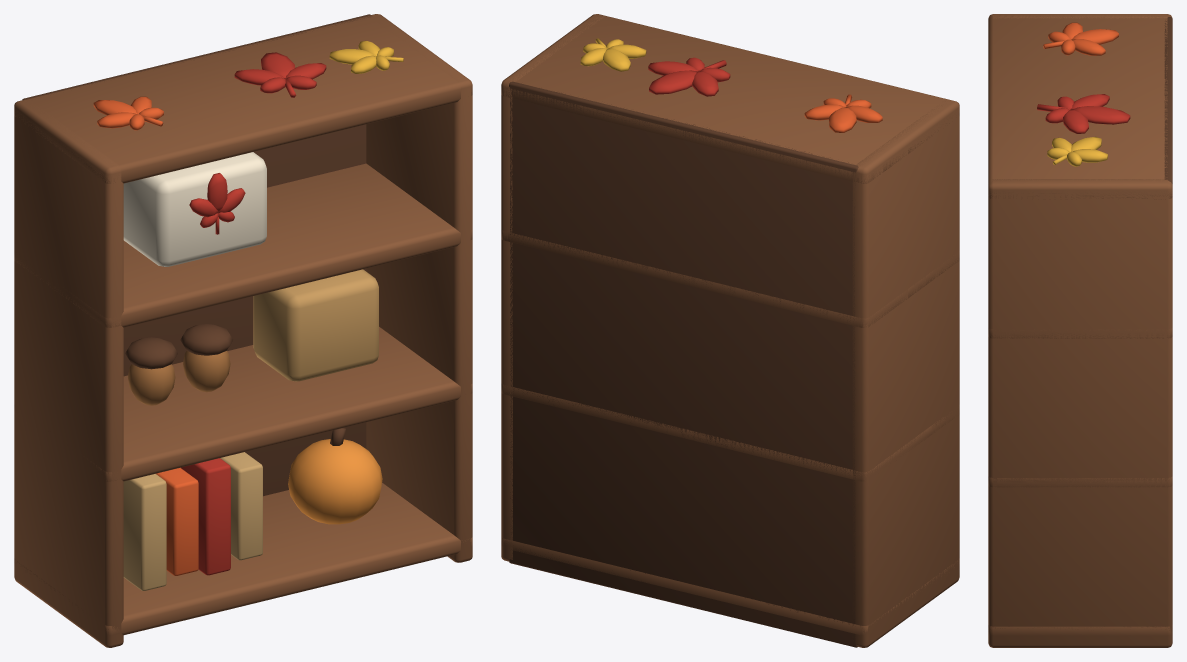
The model's file is maple-shelf.glb.
3 renders of one model, left to right at view 1: azimuth 30°, elevation 25°; view 2: azimuth 150°, elevation 25°; view 3: azimuth 270°, elevation 25°, orthographic. The views are drawn at different scales.
Parts seen in each view (by area): view 1: shelf; view 2: shelf; view 3: shelf.
Part boxes in pixels (<box>): shelf: <box>14,14,472,647</box>; shelf: <box>501,14,959,647</box>; shelf: <box>988,14,1172,647</box>.
Size of the model in its own units: 0.8 by 1.02 by 0.36.
